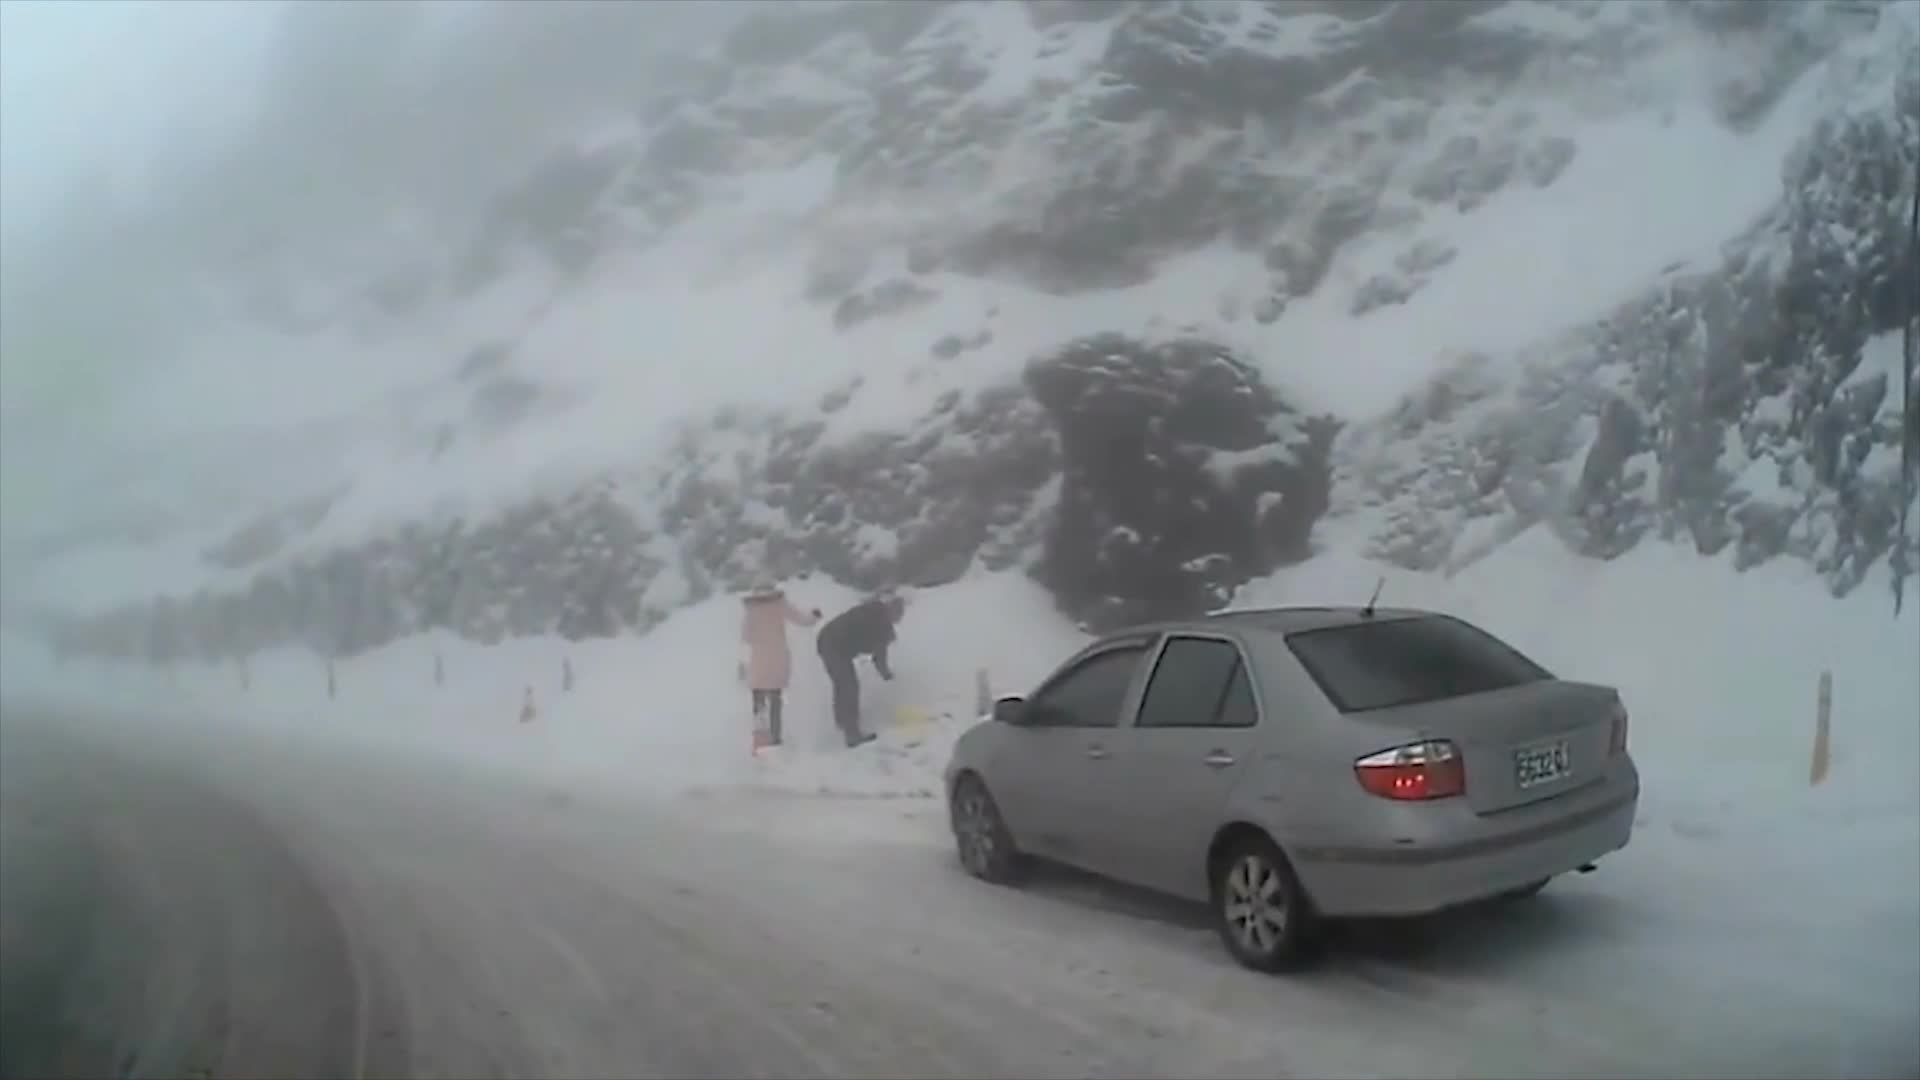pedestrian: (738, 572, 826, 746), (819, 597, 908, 745)
vehicle: (947, 603, 1640, 977)
